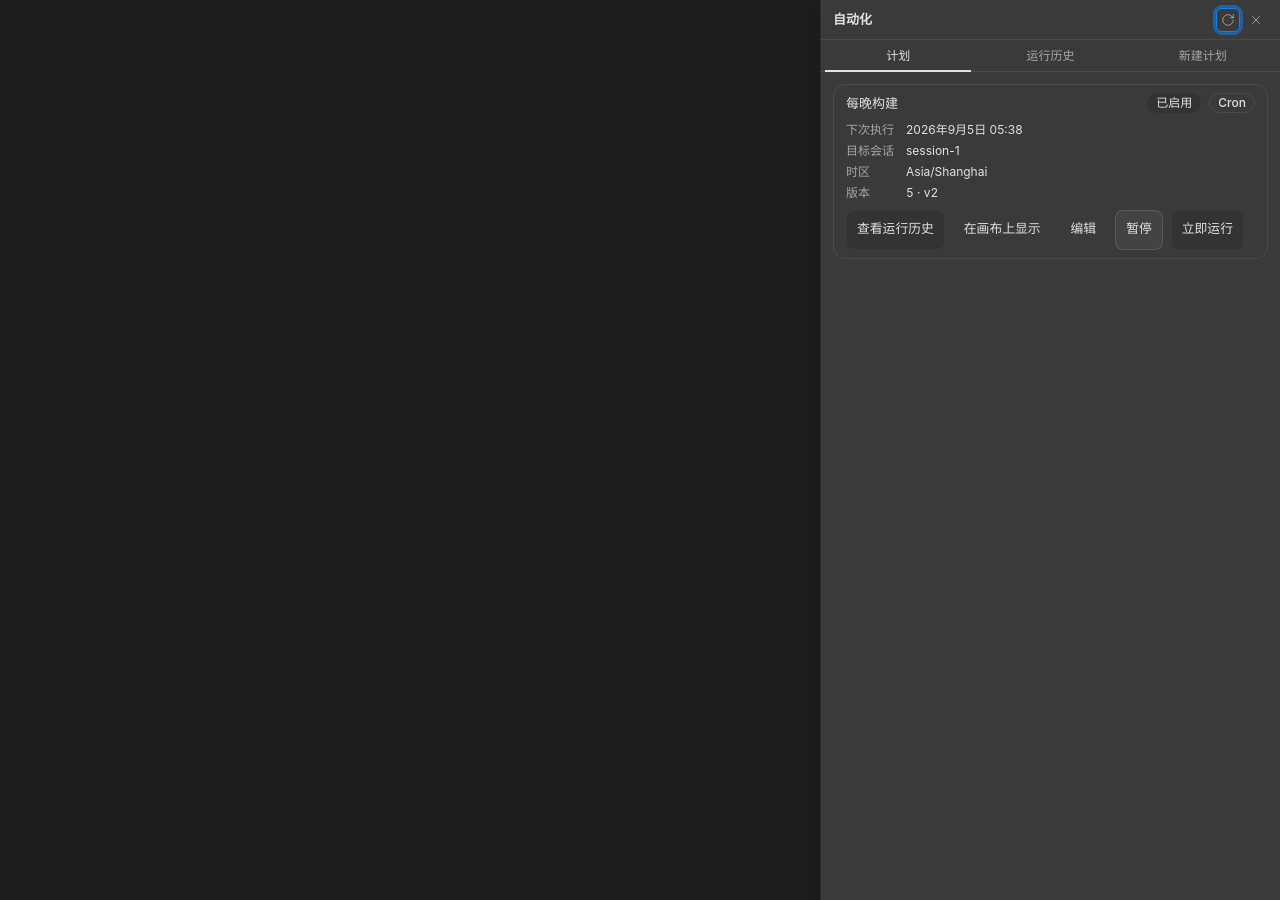
Scenario: run history navigation › navigates when a card explicitly asks to see the runs
The image size is (1280, 900).
Step 1. Click the button "查看运行历史" → [895, 230], box [846,210,945,250]
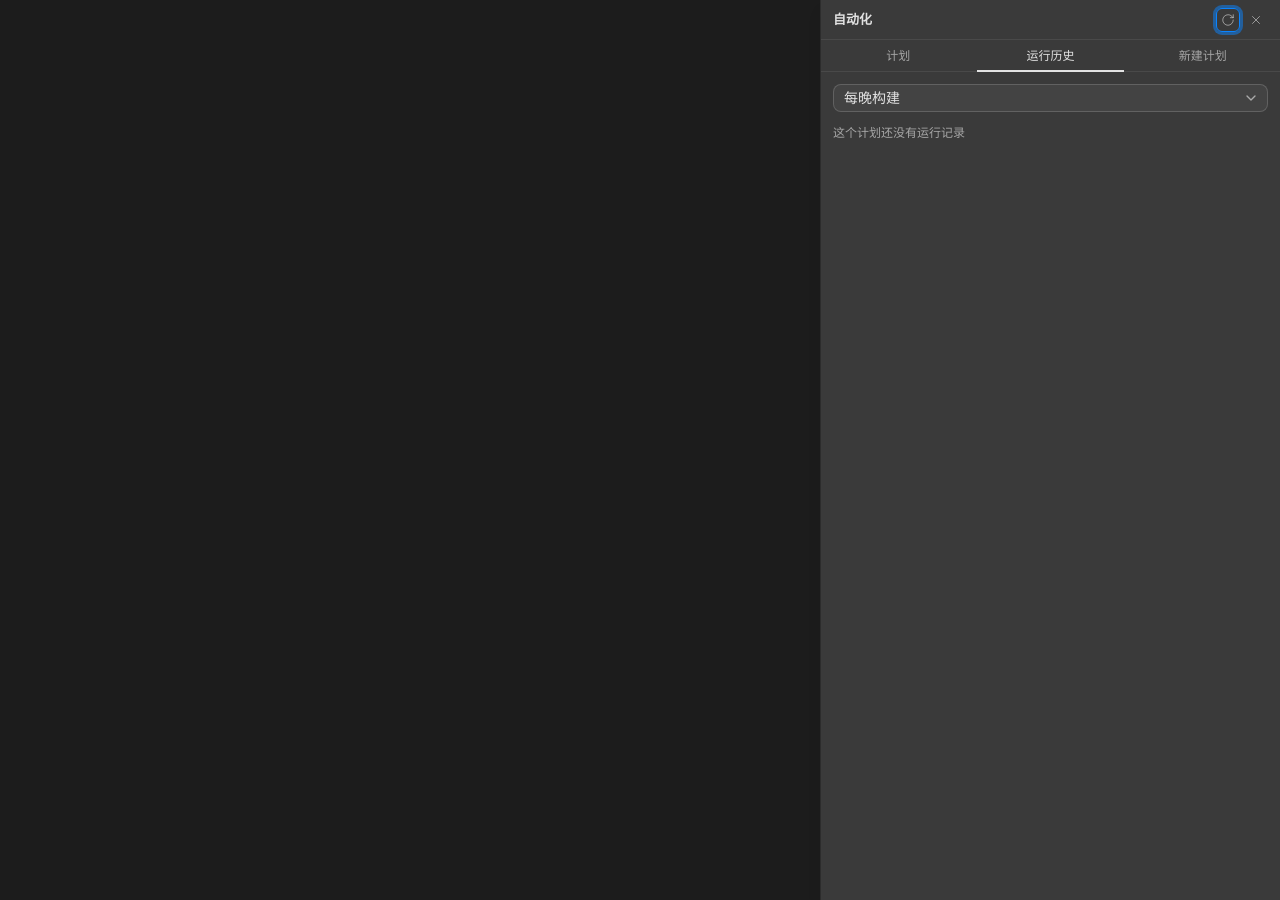
Expected: the text "这个计划还没有运行记录" is shown, [833,125,965,140]
